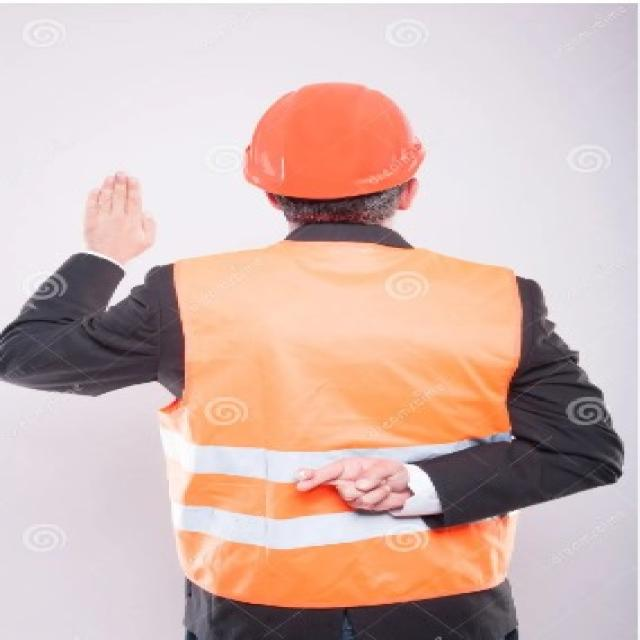not-gloved: (72, 159, 192, 267), (293, 454, 415, 514)
